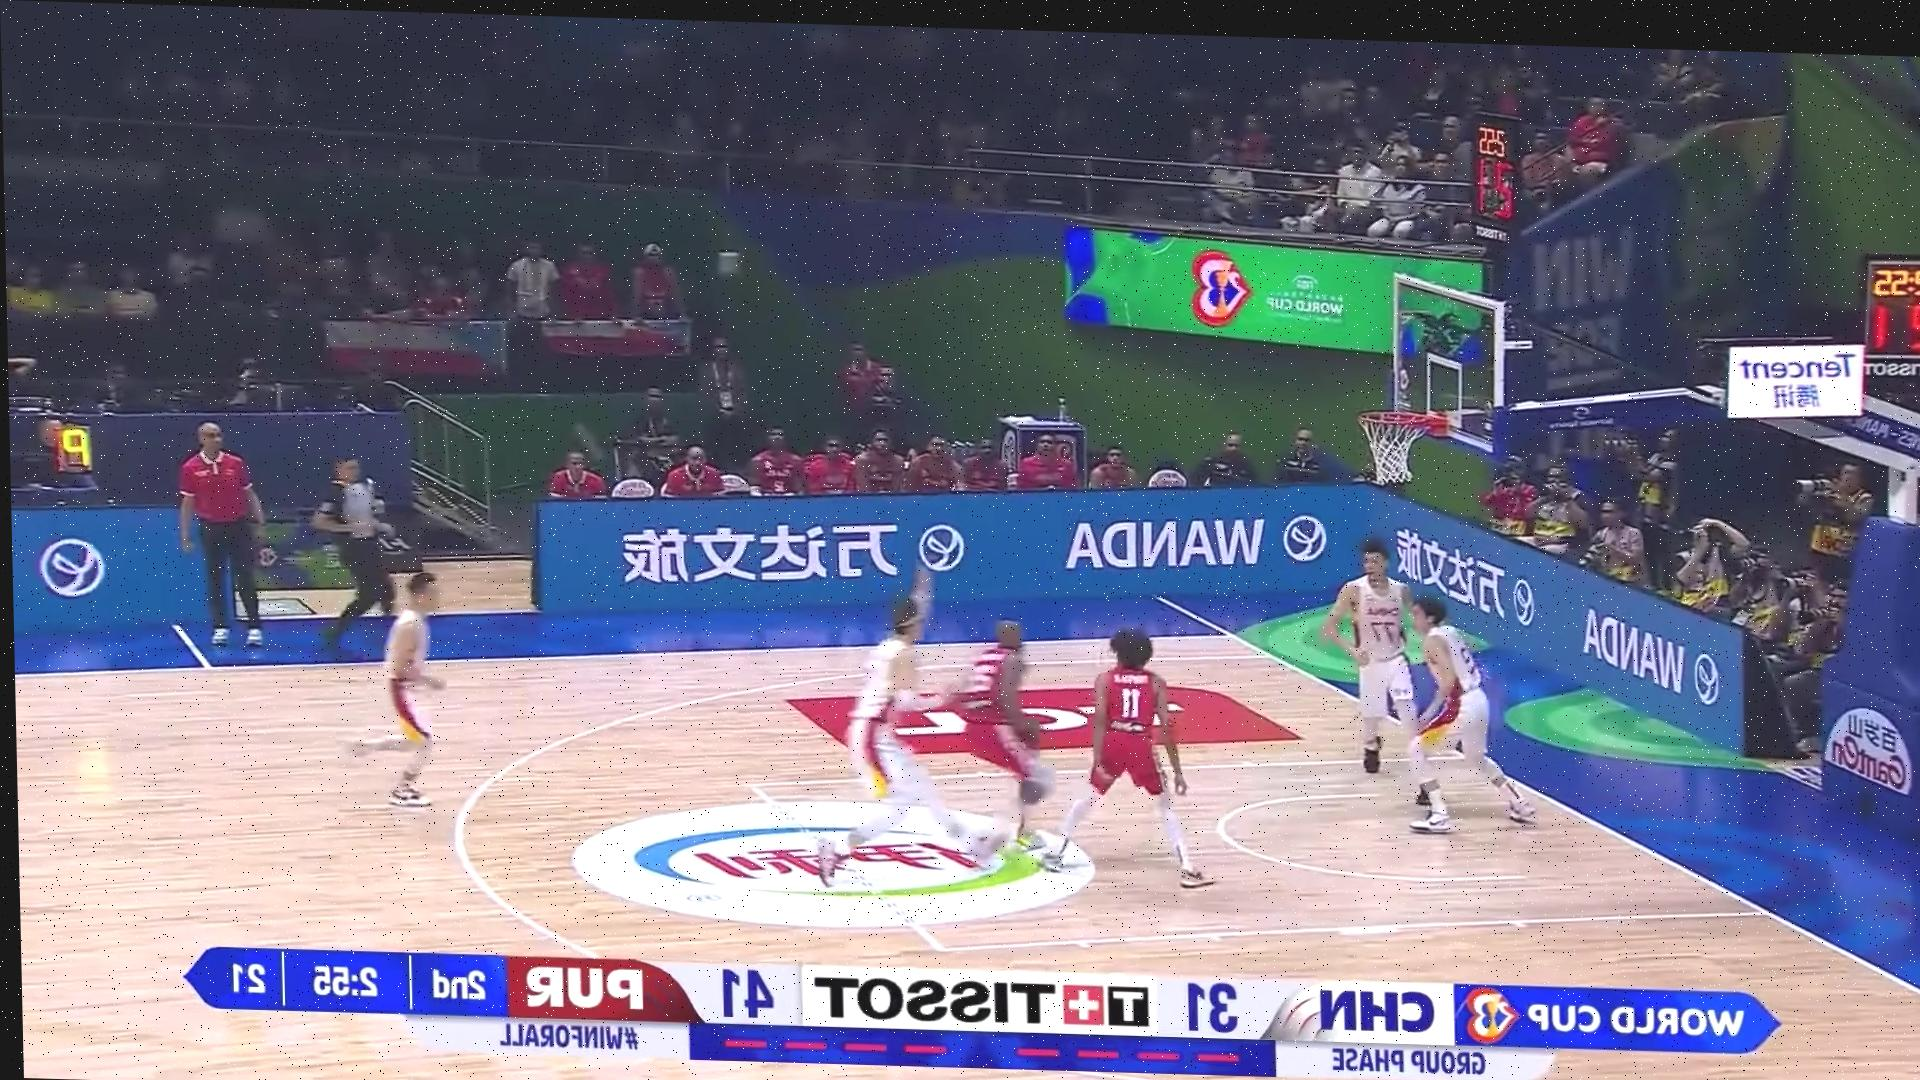no_foul: (815, 588, 1043, 866)
